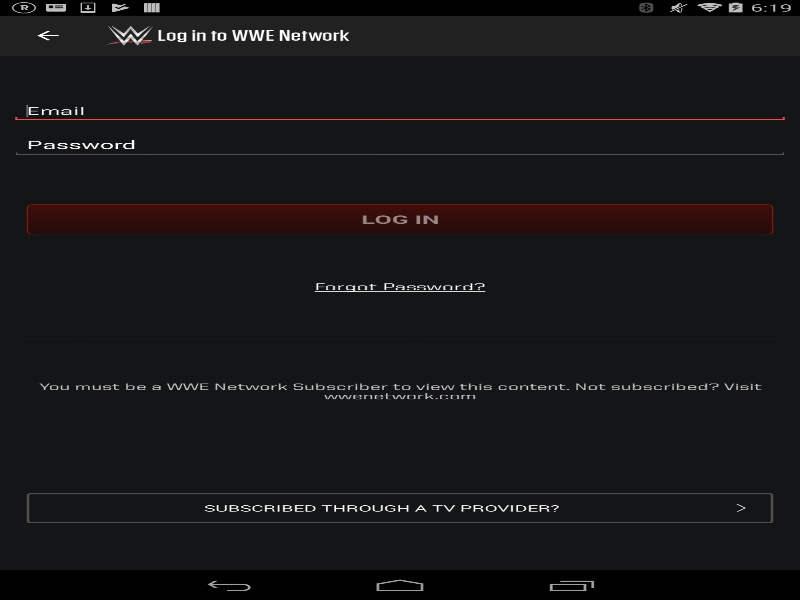Button: (26, 204, 773, 234), (26, 493, 773, 523), (10, 15, 85, 55)
Input: (10, 132, 789, 157), (10, 100, 789, 122)
